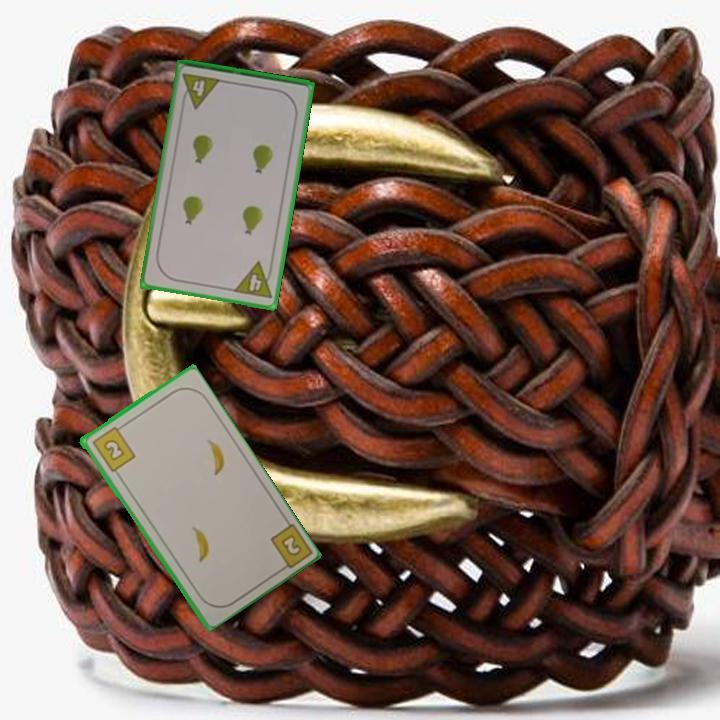2b: (88, 421, 138, 475), (266, 519, 313, 576)
4p: (230, 258, 276, 302), (178, 70, 224, 111)
